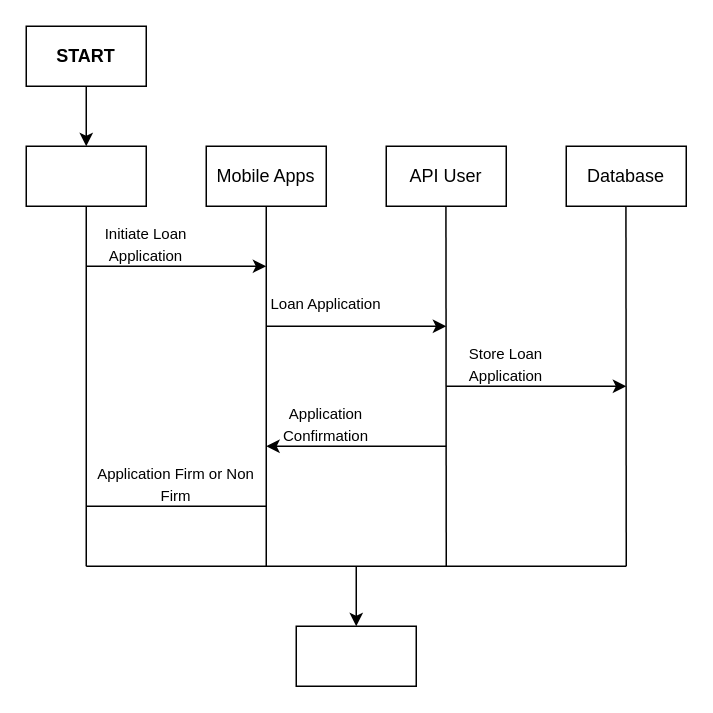
The diagram is 713 pixels wide and 713 high, and some of its shapes have lost their labels. Each missing label, with the box of its shape:
END: (295, 625, 416, 686)
User: (25, 145, 146, 206)
